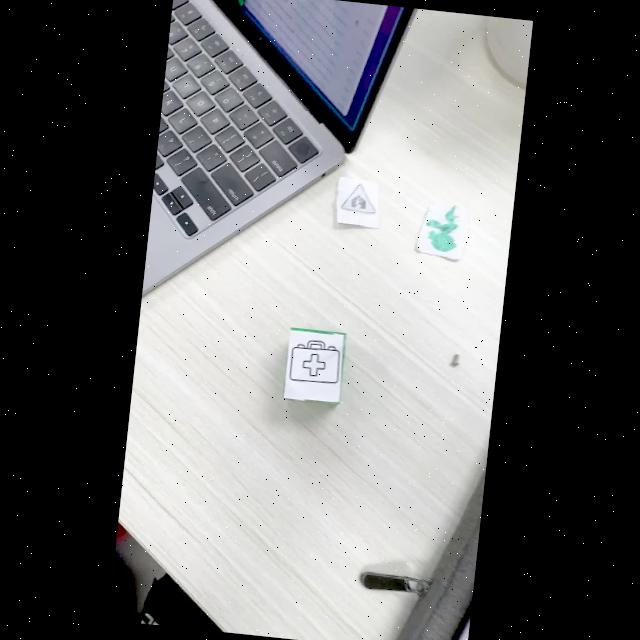Medkit: (289, 340, 340, 383)
